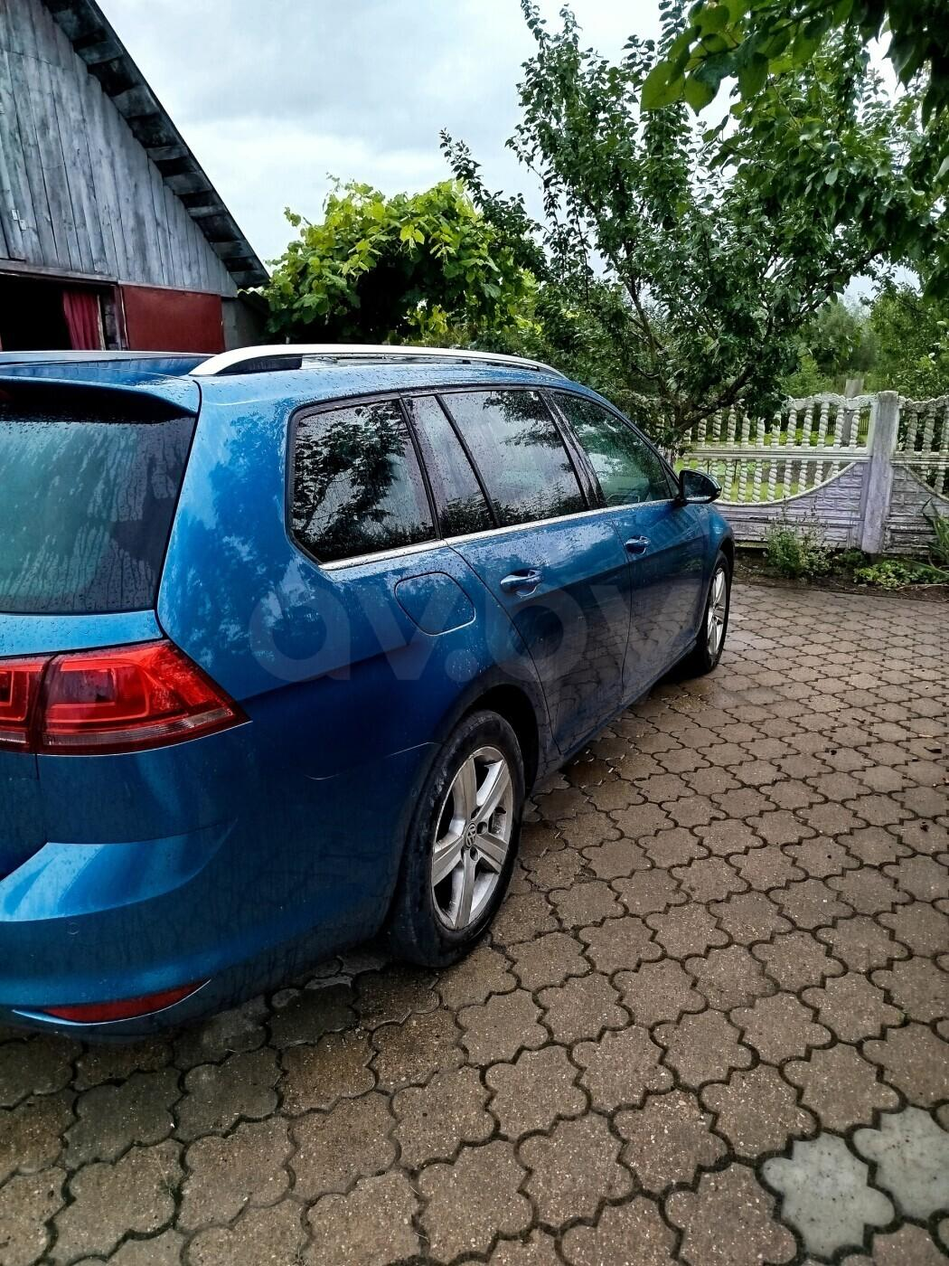Golf_2012-2017: (0, 335, 731, 1031)
